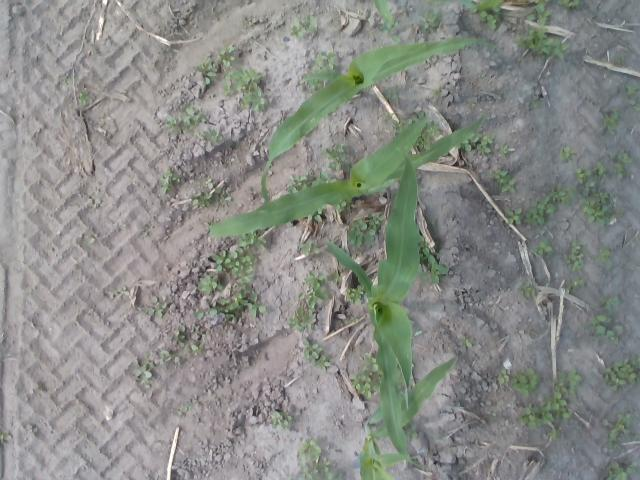Maize: (261, 38, 497, 201), (209, 116, 483, 238), (326, 149, 420, 467), (361, 353, 458, 480), (374, 0, 503, 24)
Weeds: (518, 382, 571, 426), (233, 233, 266, 283), (216, 283, 252, 321), (605, 359, 637, 391), (526, 196, 554, 226), (512, 369, 542, 397), (533, 38, 568, 58), (232, 70, 262, 92), (348, 372, 372, 398), (288, 310, 316, 332), (297, 291, 329, 310), (566, 239, 584, 271), (140, 296, 166, 317), (197, 57, 216, 85), (601, 420, 627, 440), (304, 339, 324, 364), (134, 356, 154, 380), (244, 90, 265, 112), (300, 439, 322, 460), (557, 369, 581, 388), (527, 4, 549, 24), (166, 324, 186, 346), (246, 294, 266, 316), (421, 264, 442, 284), (269, 410, 292, 428), (422, 8, 439, 32), (212, 250, 232, 270), (588, 206, 608, 226), (548, 188, 576, 202), (346, 284, 364, 305), (304, 271, 326, 288), (605, 464, 628, 480), (198, 275, 216, 295), (217, 50, 236, 68), (516, 30, 535, 48), (362, 354, 379, 374), (347, 227, 363, 248), (300, 14, 318, 32), (202, 130, 222, 146), (480, 10, 496, 30), (504, 208, 524, 224), (298, 241, 319, 256), (165, 114, 182, 132), (192, 190, 211, 206), (578, 198, 596, 213), (500, 176, 516, 192), (314, 354, 330, 370), (195, 309, 218, 320), (162, 169, 172, 194), (418, 132, 431, 150), (518, 283, 536, 296), (568, 277, 584, 291), (300, 466, 316, 480), (153, 351, 170, 364), (590, 314, 612, 324), (584, 178, 596, 196), (367, 214, 385, 226), (606, 295, 620, 310), (596, 192, 612, 205), (424, 247, 436, 264), (321, 51, 335, 65), (185, 108, 198, 123), (596, 248, 609, 263), (317, 58, 333, 70), (476, 142, 492, 154), (458, 336, 474, 348), (176, 404, 192, 416), (487, 170, 508, 179), (559, 0, 579, 9), (316, 458, 329, 471), (290, 26, 304, 38), (457, 140, 471, 152), (383, 88, 397, 100), (326, 270, 340, 282), (498, 369, 509, 384), (180, 103, 196, 113), (322, 147, 338, 157), (560, 146, 570, 162), (597, 326, 613, 336), (407, 424, 417, 440), (536, 27, 548, 40), (364, 228, 376, 241), (321, 171, 335, 182), (548, 428, 562, 439), (189, 344, 204, 354), (142, 224, 154, 236), (428, 126, 440, 138), (326, 472, 344, 480), (27, 424, 38, 437), (0, 430, 11, 443), (292, 174, 306, 184), (618, 412, 632, 422), (78, 92, 89, 104), (538, 243, 550, 254), (615, 162, 623, 178), (577, 168, 585, 184), (328, 161, 342, 170), (597, 162, 606, 176), (168, 353, 180, 363), (380, 20, 390, 32), (484, 134, 496, 144), (604, 115, 614, 127), (610, 108, 620, 120), (358, 218, 368, 230), (118, 286, 130, 296), (222, 84, 232, 95), (621, 154, 632, 164), (109, 288, 118, 300), (208, 183, 220, 192), (312, 176, 324, 185), (391, 119, 400, 131), (198, 110, 206, 123), (191, 324, 201, 334), (626, 84, 636, 94), (630, 354, 640, 364), (627, 462, 637, 472), (336, 201, 346, 211), (401, 119, 412, 128), (140, 380, 152, 388), (337, 142, 345, 154), (310, 80, 322, 88), (316, 210, 324, 222), (88, 198, 101, 205), (172, 174, 182, 183), (470, 133, 480, 142), (289, 184, 298, 193), (62, 77, 72, 85), (182, 120, 190, 130), (225, 45, 234, 53), (618, 57, 626, 66), (430, 88, 441, 94), (240, 102, 248, 110), (392, 35, 400, 43), (348, 316, 358, 322), (225, 72, 232, 80), (213, 192, 218, 202), (202, 331, 209, 338), (530, 246, 538, 252), (284, 476, 296, 480), (500, 146, 507, 152), (630, 100, 636, 107), (600, 296, 605, 304), (120, 222, 126, 228), (610, 125, 616, 131), (616, 208, 622, 214), (612, 336, 618, 342), (88, 238, 95, 243), (587, 169, 592, 176), (196, 132, 204, 136), (394, 22, 399, 28), (532, 102, 537, 108), (341, 156, 346, 161), (206, 180, 212, 184), (384, 114, 390, 118), (507, 148, 514, 151), (226, 197, 230, 202), (218, 284, 222, 288), (250, 22, 252, 27)
